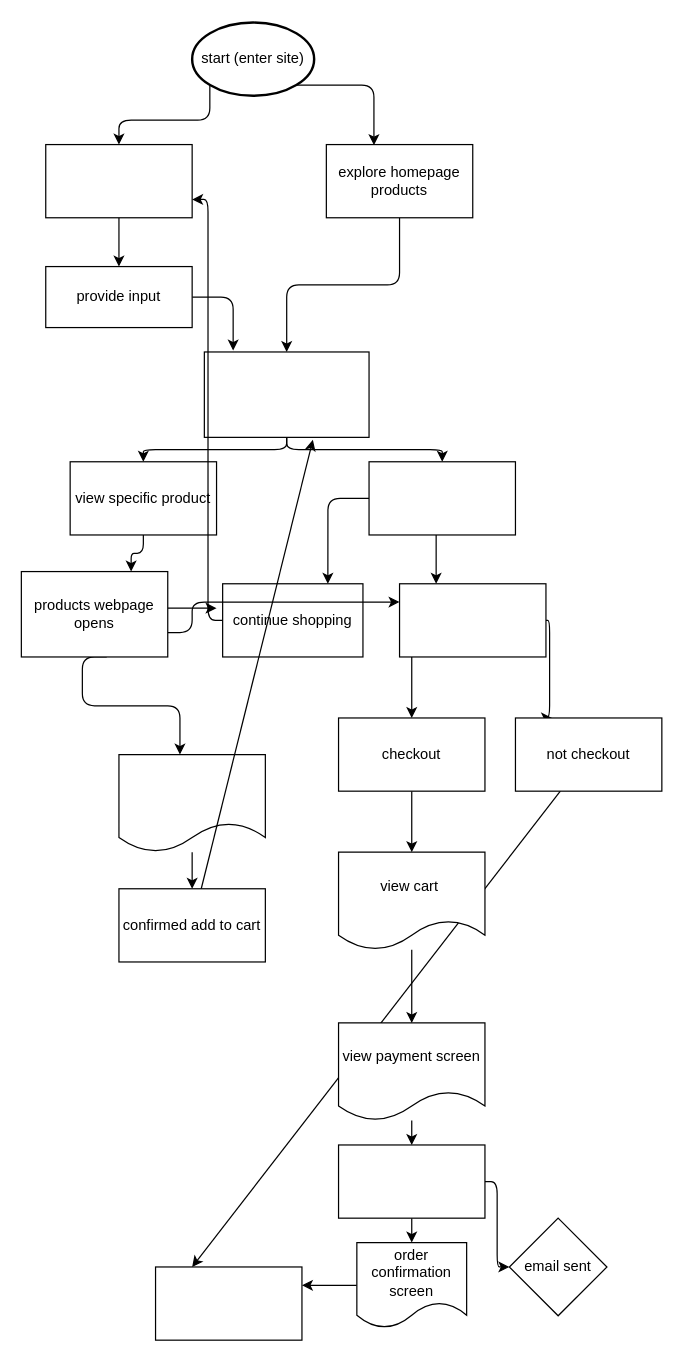
The diagram is 683 pixels wide and 1362 high, and some of its shapes have lost their labels. Each missing label, with the centre of its shape:
"add to cart confirmation if want to add to cart" belongs at point 191,802.
"give input of payment info" belongs at point 411,1181.
"keep looking generally" belongs at point 441,498.
"leave site" belongs at point 228,1303.
"not continue shopping" belongs at point 472,620.
"search for product" belongs at point 118,180.
"user begins looking thorugh products" belongs at point 286,394.
